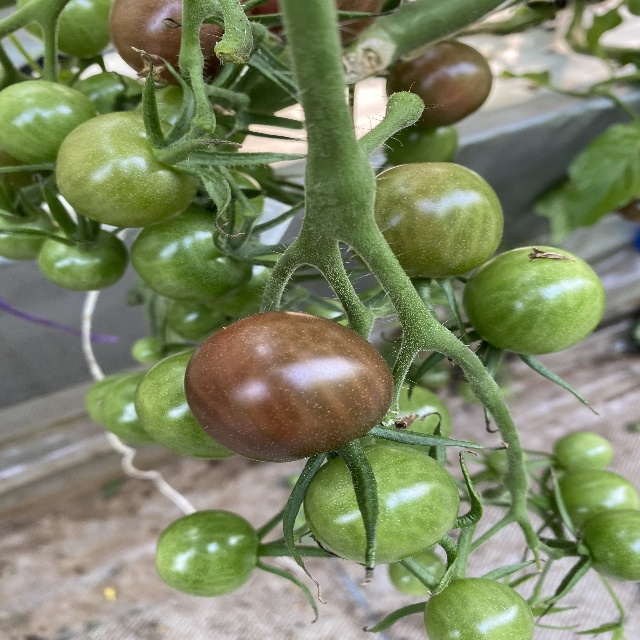l_fully_ripened: (183, 311, 394, 462)
l_green: (303, 444, 460, 565), (348, 162, 504, 278), (55, 111, 203, 228), (461, 246, 607, 354), (131, 206, 254, 304), (135, 347, 238, 459), (154, 510, 260, 598), (0, 80, 98, 171), (422, 578, 536, 640), (359, 384, 453, 457), (37, 225, 128, 291), (18, 0, 115, 59), (552, 469, 638, 530), (576, 508, 640, 582), (104, 368, 154, 444), (383, 124, 459, 167), (1, 203, 54, 262), (74, 72, 147, 114), (388, 549, 451, 595), (553, 431, 612, 473)
l_half_ripened: (109, 0, 252, 87), (386, 41, 492, 128)
